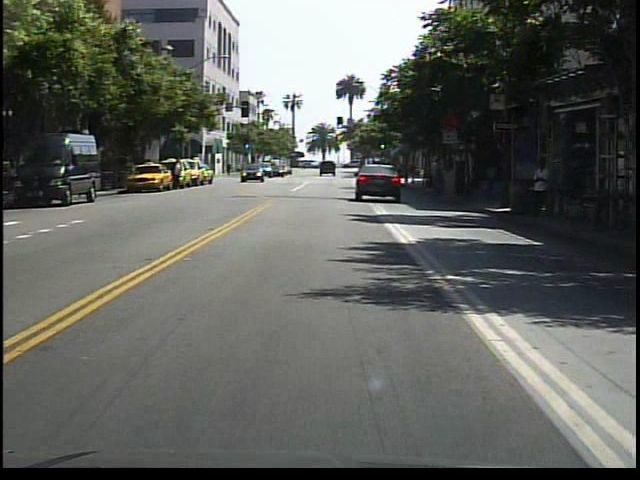person: (528, 151, 561, 224), (171, 157, 187, 193)
